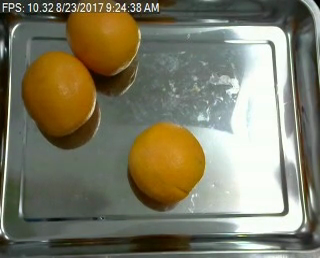Orange: (22, 52, 96, 136), (129, 122, 206, 202), (65, 11, 141, 76)
